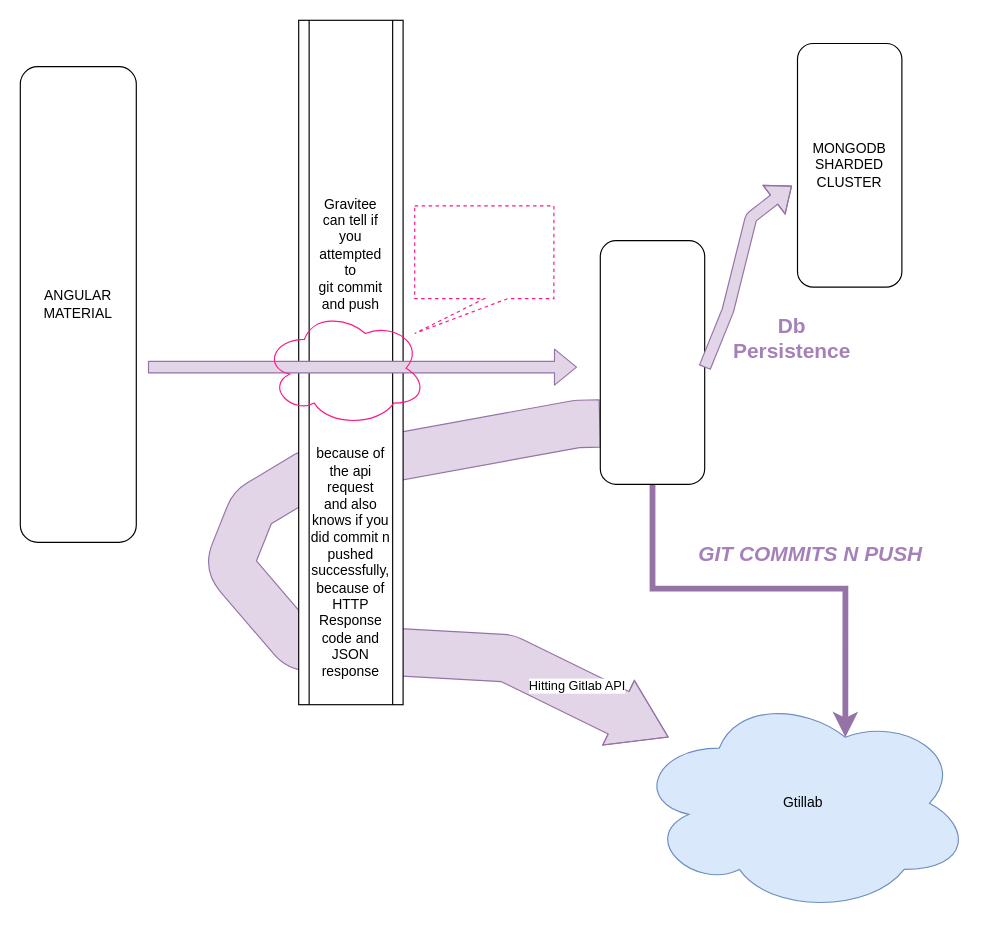
Some shapes in this 992 by 934 pixel diagram are drawn without their labels. Each missing label, with the box of its shape:
Here Access management Accountability: (414, 205, 554, 334)
POKUS REST API calls Gitlab API git commits gets back up wit auto git clone: (599, 240, 705, 484)
